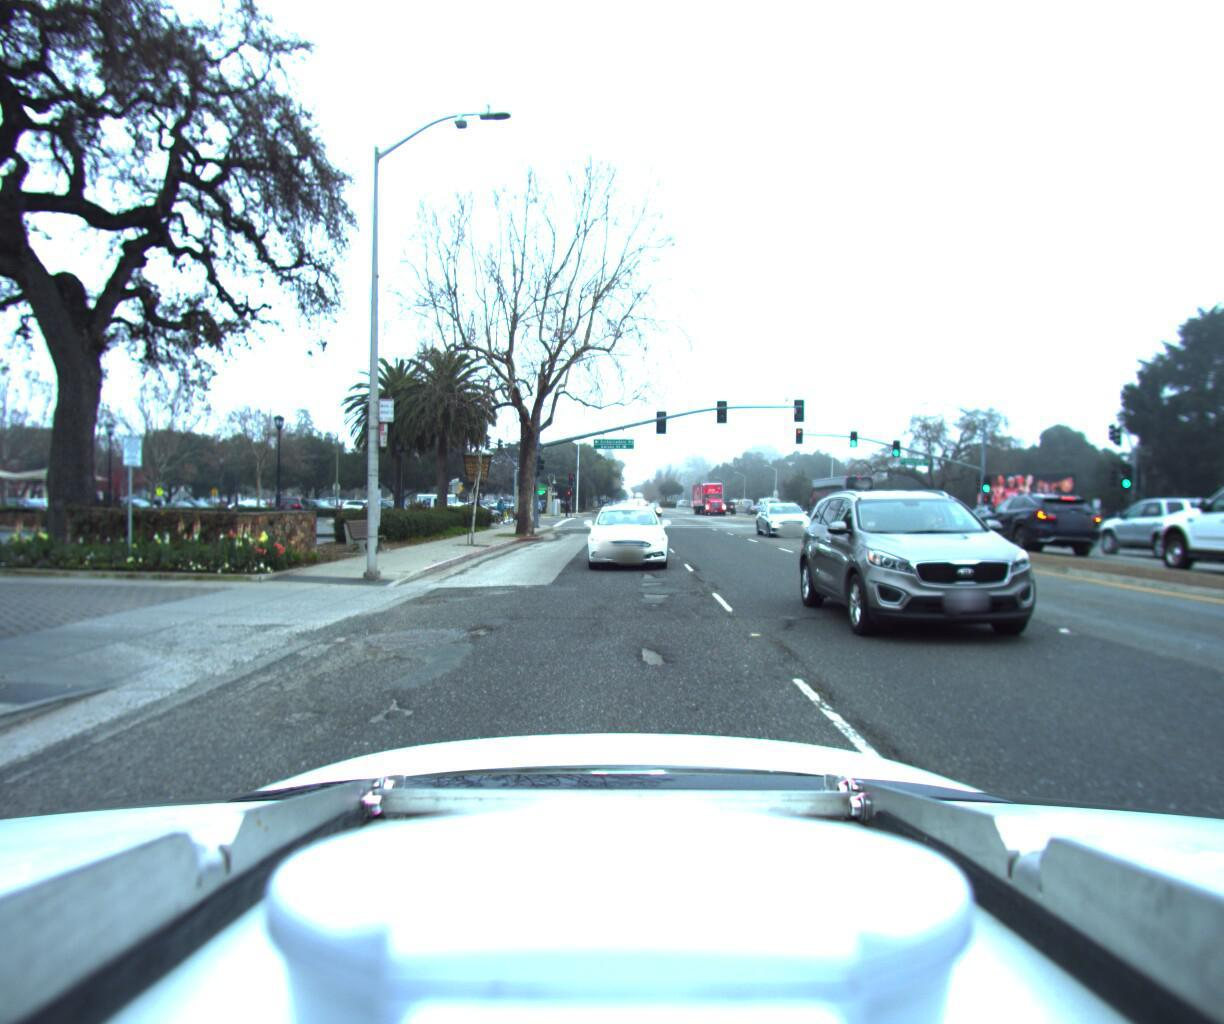bicycle: (489, 487, 516, 517)
bus: (801, 465, 878, 517)
car: (801, 472, 1138, 676), (963, 481, 1117, 557), (1133, 460, 1224, 586), (1080, 489, 1224, 553), (580, 497, 672, 571), (757, 497, 823, 536), (336, 491, 396, 513), (274, 489, 314, 515)
other_vehicle: (412, 485, 472, 514)
